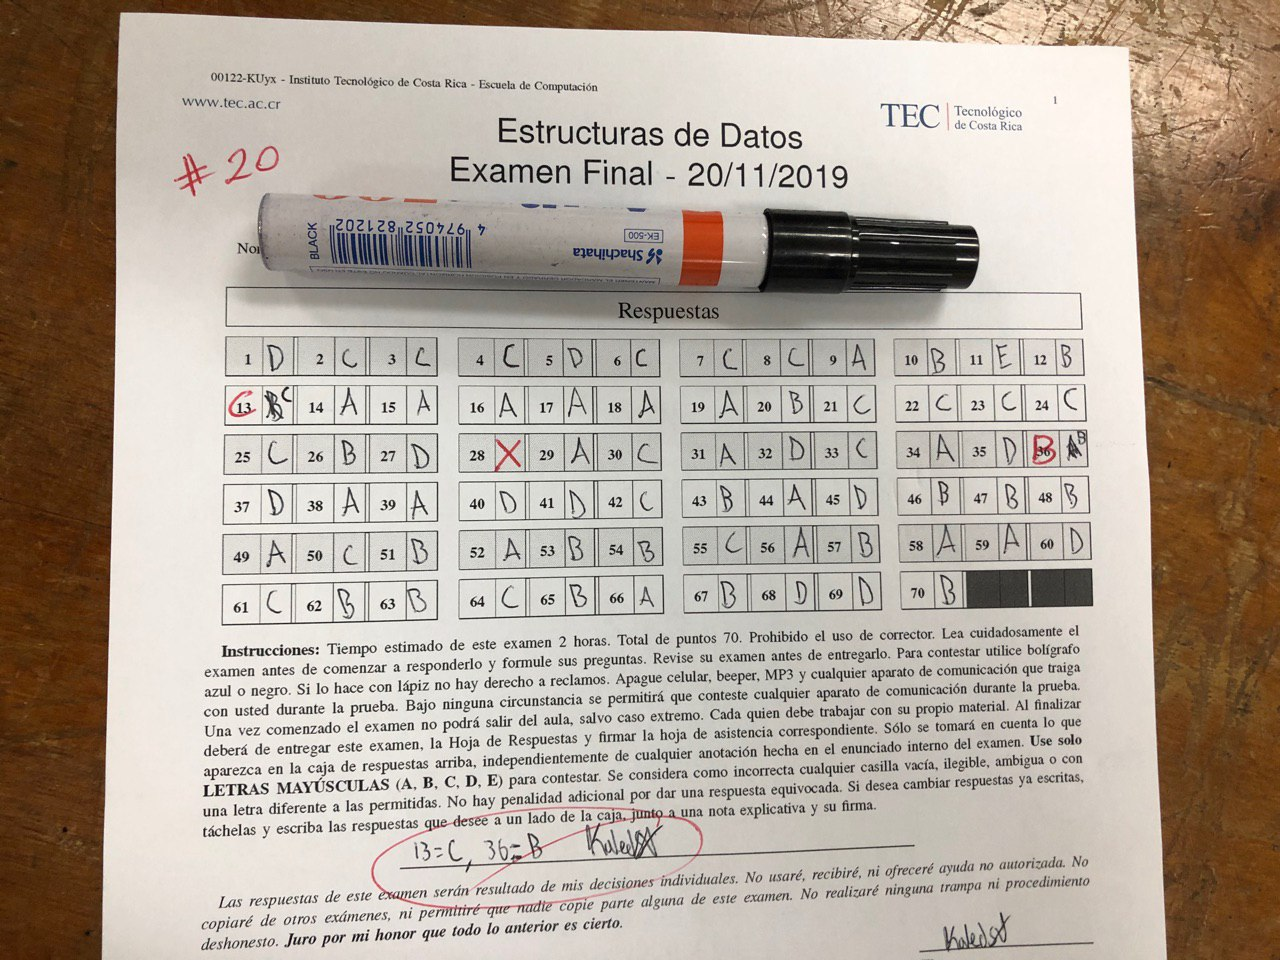RESPUESTA: (227, 437, 291, 472), (370, 436, 434, 471), (299, 437, 363, 472), (227, 388, 291, 423), (461, 436, 523, 470), (597, 435, 659, 469), (226, 487, 288, 521), (372, 486, 434, 520), (461, 484, 523, 518), (224, 587, 286, 621), (372, 584, 434, 618), (461, 582, 523, 616), (599, 578, 661, 612), (528, 435, 590, 469), (300, 486, 362, 520), (531, 484, 593, 518), (300, 585, 362, 619), (531, 580, 593, 614), (684, 576, 746, 610), (753, 575, 812, 610), (226, 537, 288, 571), (372, 534, 434, 568), (461, 533, 523, 567), (300, 536, 362, 570), (531, 531, 593, 565), (600, 530, 661, 564), (600, 482, 659, 516), (752, 527, 811, 562), (684, 529, 745, 563), (230, 340, 290, 372), (373, 340, 433, 372), (460, 341, 520, 373), (597, 342, 657, 374), (820, 575, 879, 608), (902, 573, 961, 606), (301, 340, 361, 372), (529, 342, 589, 374), (372, 388, 432, 419), (460, 388, 520, 419), (597, 389, 657, 421), (302, 388, 362, 419), (529, 388, 589, 419), (753, 481, 808, 514), (750, 434, 805, 467), (751, 341, 806, 374), (896, 341, 951, 374), (961, 340, 1016, 373), (1025, 341, 1080, 374), (963, 386, 1018, 419), (1028, 386, 1083, 419), (900, 434, 955, 467), (966, 433, 1021, 466), (1030, 432, 1085, 465), (901, 479, 956, 512), (967, 479, 1022, 512), (1030, 478, 1085, 511), (685, 481, 740, 514), (817, 480, 872, 513), (684, 435, 739, 468), (817, 434, 872, 467), (683, 342, 738, 375), (816, 341, 871, 374), (902, 525, 957, 558), (968, 524, 1023, 557), (1032, 525, 1087, 558), (749, 387, 804, 419), (899, 387, 954, 419), (820, 528, 875, 561), (684, 388, 739, 421), (817, 387, 872, 419)
